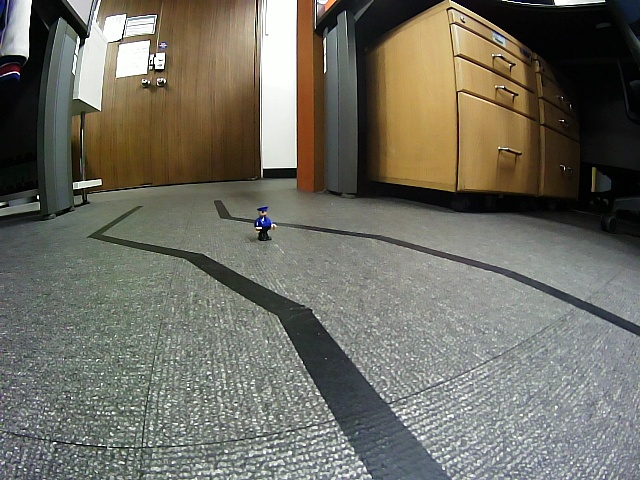person: (254, 206, 277, 241)
